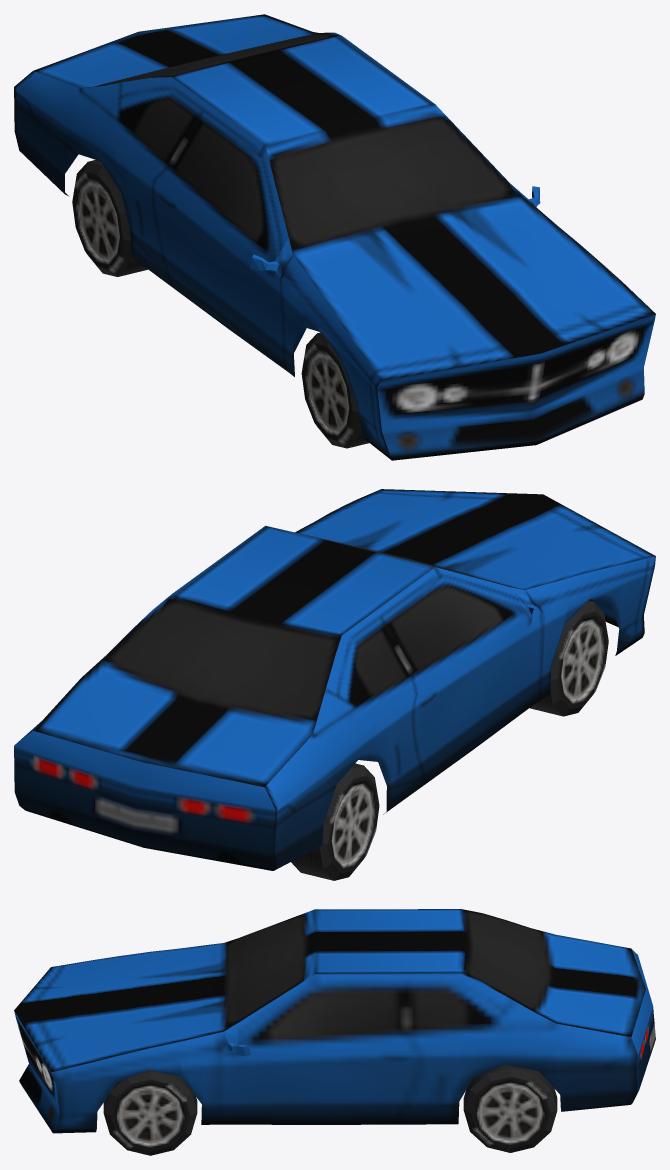
File: car.obj
3 views of the same model, one above another, from view 1: azimuth 30°, elevation 25°; view 2: azimuth 150°, elevation 25°; view 3: azimuth 270°, elevation 25° (orthographic). The views are drawn at different scales.
Visible parts, largest first — view 1: Box001_Untitled; view 2: Box001_Untitled; view 3: Box001_Untitled.
Boxes of the visible parts, x1,y1,x2,y2 form: Box001_Untitled: (14,14,655,460); Box001_Untitled: (14,489,655,880); Box001_Untitled: (14,909,655,1155).
Bounding box in the file's own units: 131 × 92.15 × 320.
